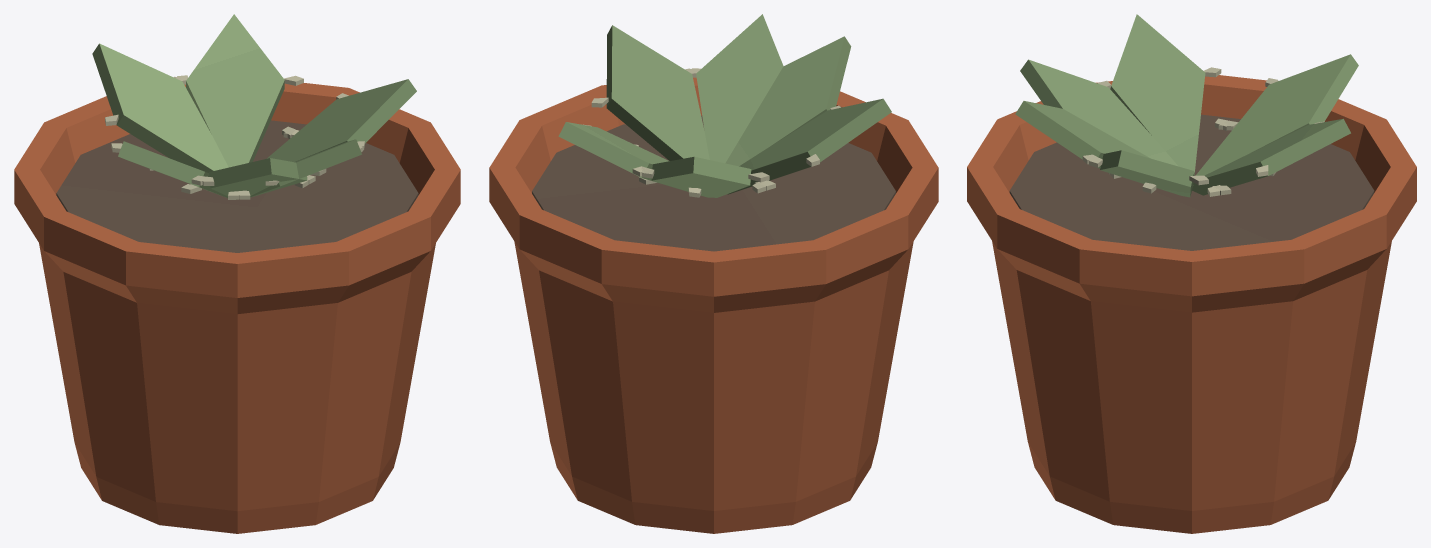
File: new-tigrina.glb
The picture shows the model from 3 angles, left to right: view 1: azimuth 30°, elevation 25°; view 2: azimuth 150°, elevation 25°; view 3: azimuth 270°, elevation 25°; orthographic projection.
Parts seen in each view (by area): view 1: new-tigrina/review-terra-vessel, new-tigrina/review-rooted-soil, new-tigrina/leaf-006, new-tigrina/leaf-021, new-tigrina/leaf-016, new-tigrina/leaf-026, new-tigrina/leaf-011, new-tigrina/leaf-001; view 2: new-tigrina/review-terra-vessel, new-tigrina/review-rooted-soil, new-tigrina/leaf-016, new-tigrina/leaf-001, new-tigrina/leaf-026, new-tigrina/leaf-011, new-tigrina/leaf-021, new-tigrina/leaf-006; view 3: new-tigrina/review-terra-vessel, new-tigrina/review-rooted-soil, new-tigrina/leaf-011, new-tigrina/leaf-021, new-tigrina/leaf-026, new-tigrina/leaf-006, new-tigrina/leaf-001, new-tigrina/leaf-016.
Part boxes in pixels (bbox=[...]): new-tigrina/review-terra-vessel: bbox=[14, 83, 460, 533]; new-tigrina/review-rooted-soil: bbox=[56, 120, 418, 252]; new-tigrina/leaf-006: bbox=[186, 14, 284, 167]; new-tigrina/leaf-021: bbox=[92, 43, 228, 172]; new-tigrina/leaf-016: bbox=[267, 79, 416, 162]; new-tigrina/leaf-026: bbox=[209, 158, 307, 199]; new-tigrina/leaf-011: bbox=[118, 141, 227, 197]; new-tigrina/leaf-001: bbox=[250, 139, 361, 196]; new-tigrina/review-terra-vessel: bbox=[489, 77, 938, 533]; new-tigrina/review-rooted-soil: bbox=[532, 115, 895, 251]; new-tigrina/leaf-016: bbox=[606, 25, 709, 160]; new-tigrina/leaf-001: bbox=[696, 14, 783, 163]; new-tigrina/leaf-026: bbox=[725, 36, 851, 166]; new-tigrina/leaf-011: bbox=[727, 98, 891, 194]; new-tigrina/leaf-021: bbox=[651, 156, 751, 197]; new-tigrina/leaf-006: bbox=[558, 122, 702, 196]; new-tigrina/review-terra-vessel: bbox=[967, 75, 1416, 533]; new-tigrina/review-rooted-soil: bbox=[1009, 114, 1374, 250]; new-tigrina/leaf-011: bbox=[1110, 14, 1205, 188]; new-tigrina/leaf-021: bbox=[1196, 54, 1358, 175]; new-tigrina/leaf-026: bbox=[1020, 59, 1178, 166]; new-tigrina/leaf-006: bbox=[1192, 118, 1350, 195]; new-tigrina/leaf-001: bbox=[1015, 101, 1150, 168]; new-tigrina/leaf-016: bbox=[1100, 150, 1194, 197].
Size of the model in its own units: 0.19 by 0.179 by 0.19.
Materials: 4 (4 with a texture image).
